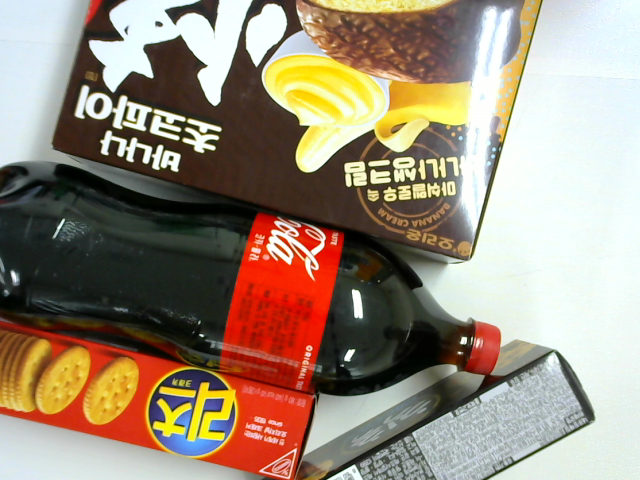Chicchok_Original_2400: (262, 345, 590, 480)
Choco_Pie_Banana: (60, 1, 517, 232)
Coca_Cola_1.5L: (1, 167, 490, 385)
Ritz_Cracker: (3, 322, 324, 480)
